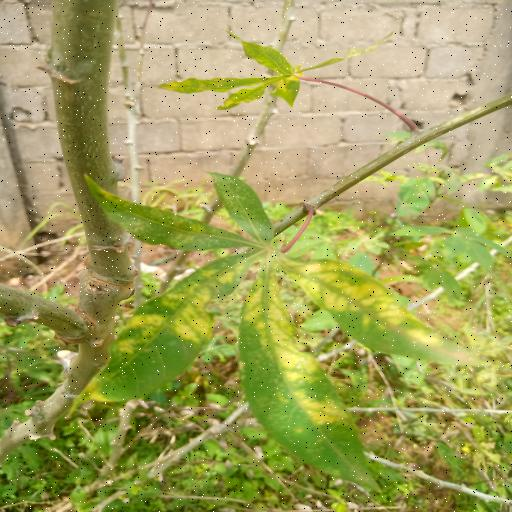Cassava_Mosaic: (76, 167, 485, 497)
